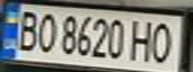0: (106, 16, 130, 61)
2: (90, 15, 112, 61)
6: (75, 12, 93, 57)
8: (57, 11, 78, 56)
B: (9, 7, 42, 52)
H: (127, 17, 160, 63)
O: (145, 19, 181, 64), (33, 9, 60, 54)
